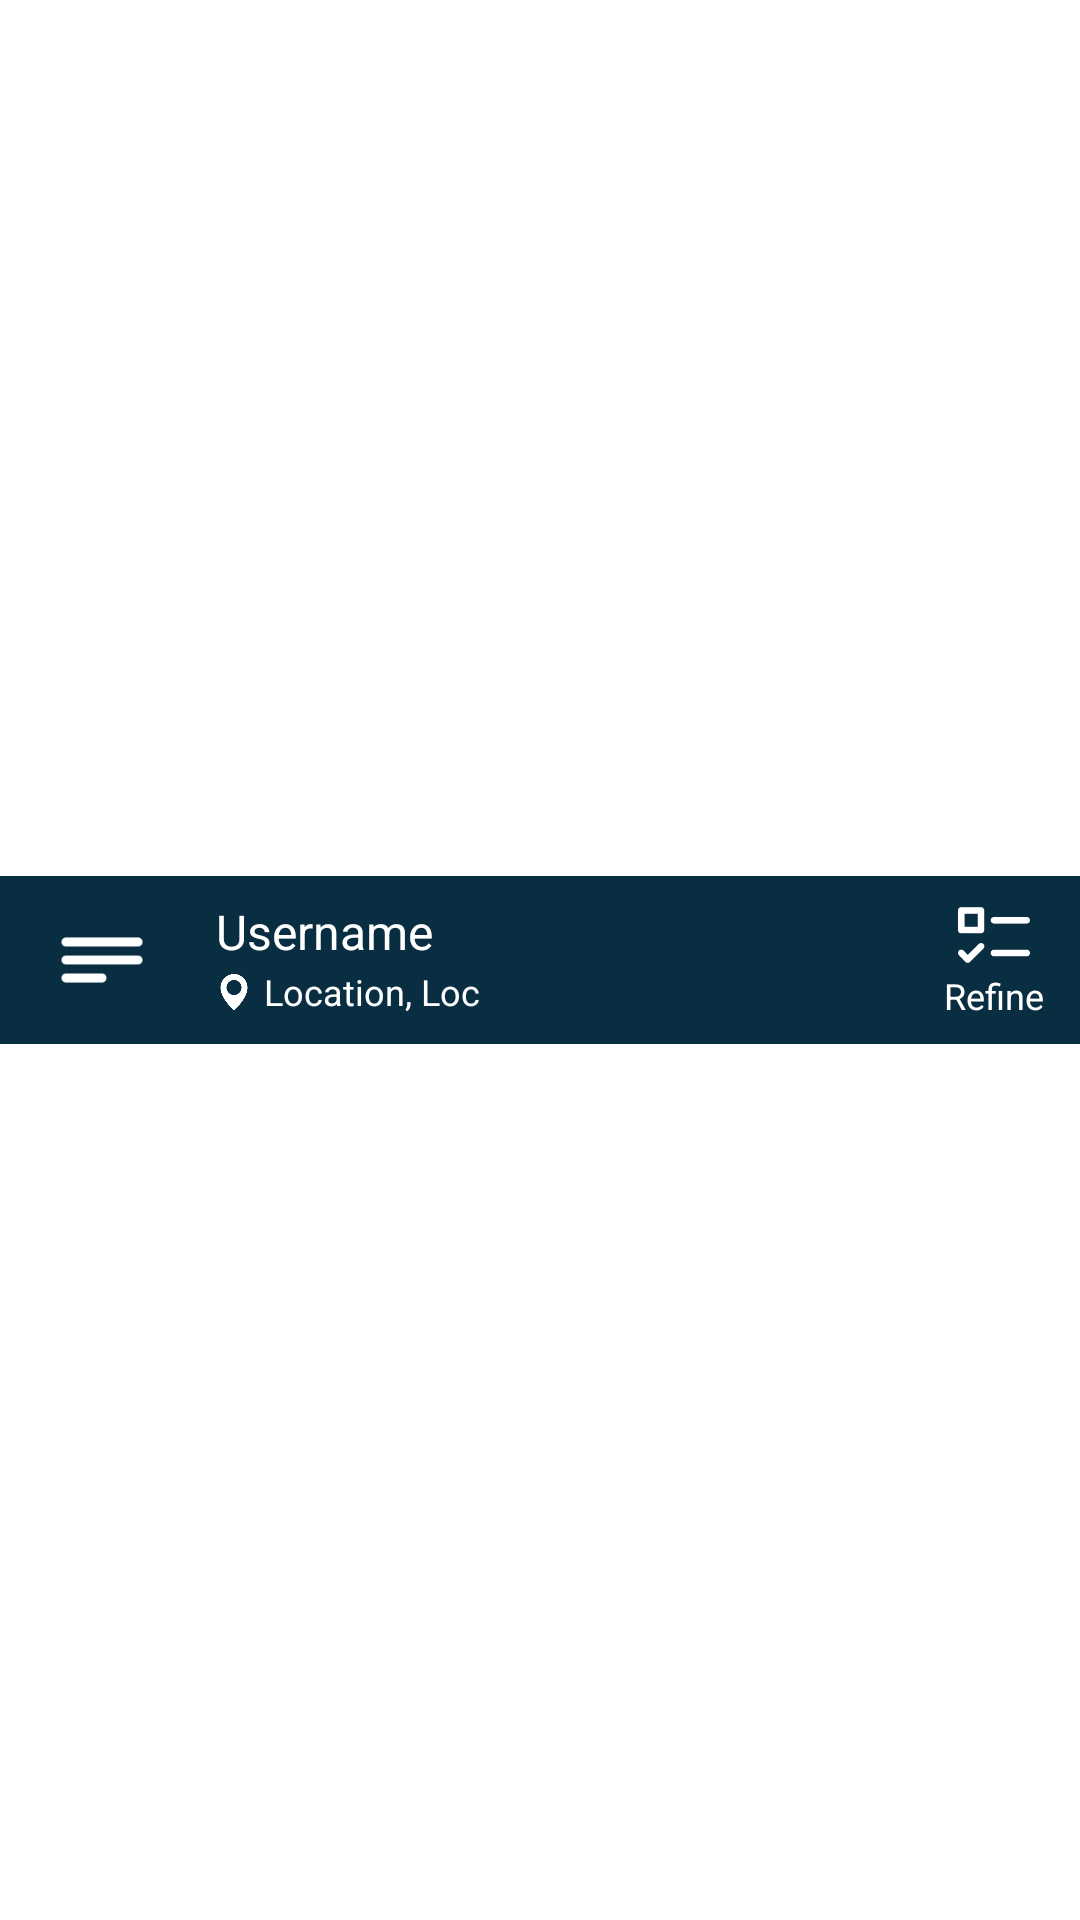

Icon bounding boxes for this 1080x1920 phone screenshot, format (x1, y1, x2, y2):
checklist: (958, 907, 1030, 963)
menu: (61, 937, 143, 983)
